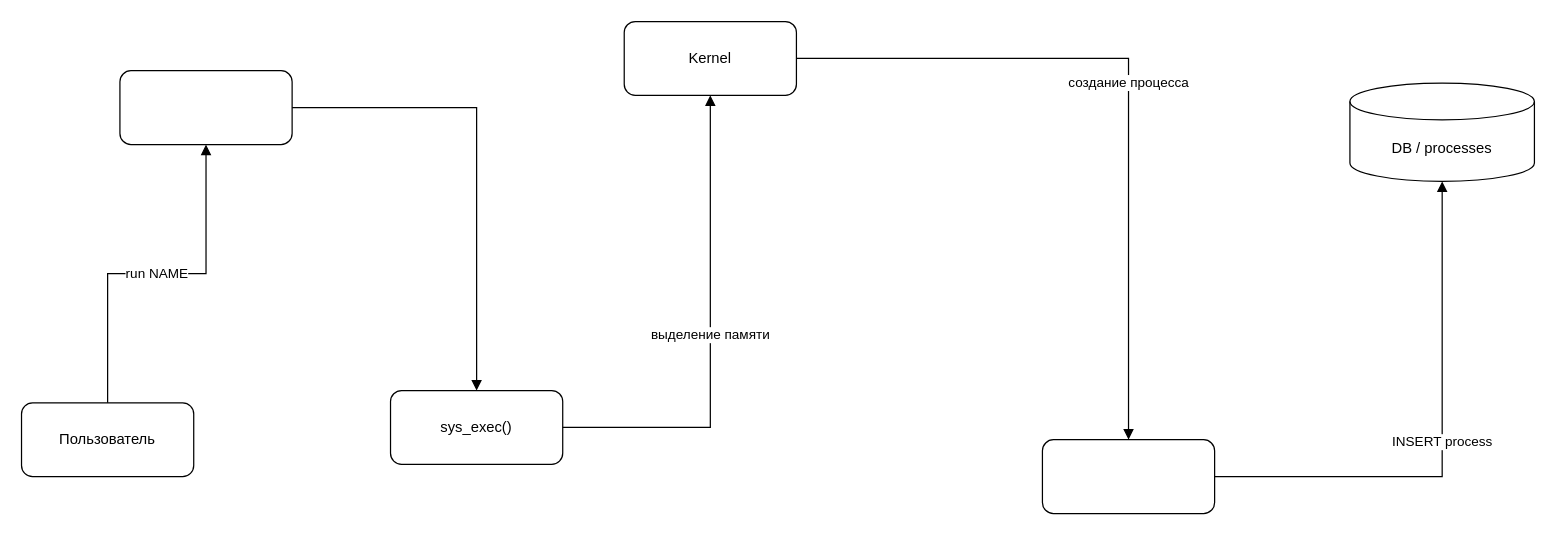
The diagram is 1556 pixels wide and 535 high, and some of its shapes have lost their labels. The box of each missing label's shape, as (x1, y1, x2, y2) in pixels:
Scheduler: (1041, 438, 1215, 514)
Shell: (119, 69, 292, 145)
